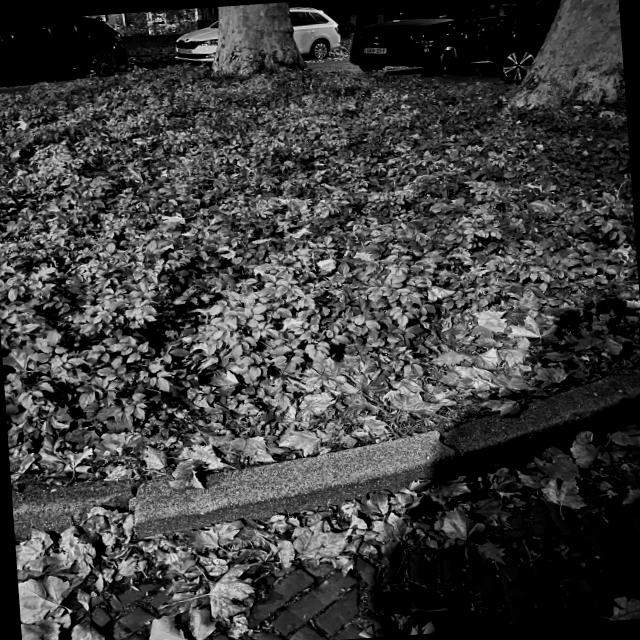leaves: (15, 446, 629, 639)
weed: (0, 43, 640, 470)
